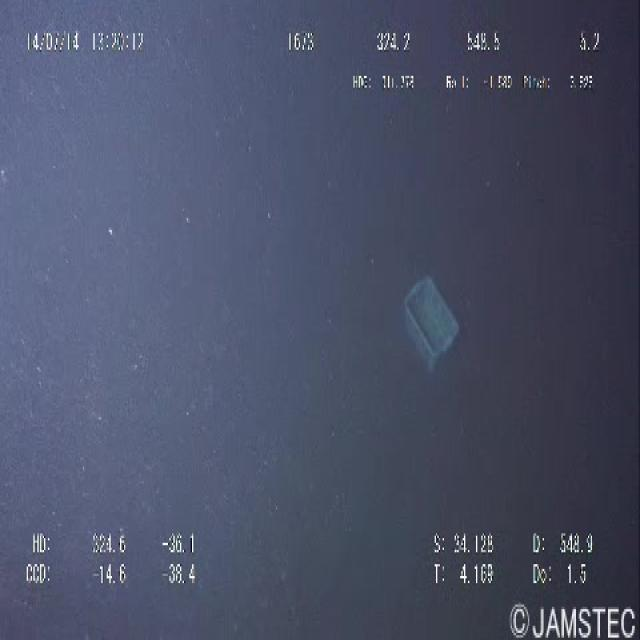plastic: (398, 245, 462, 386)
